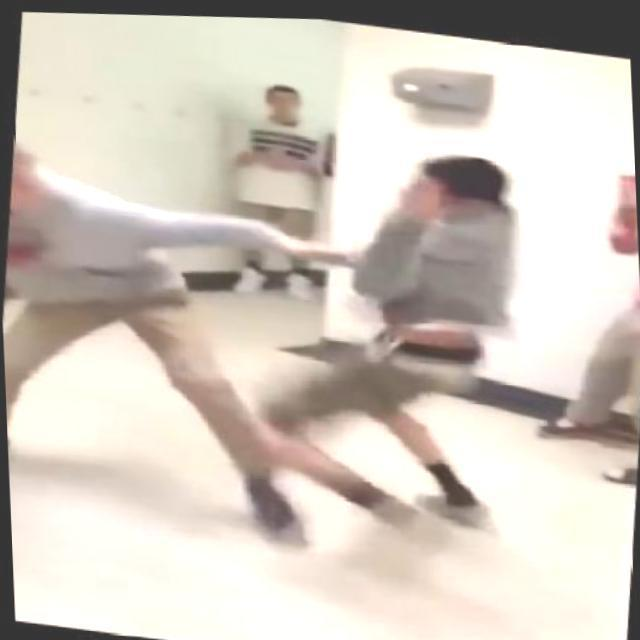fight: (1, 77, 546, 580)
